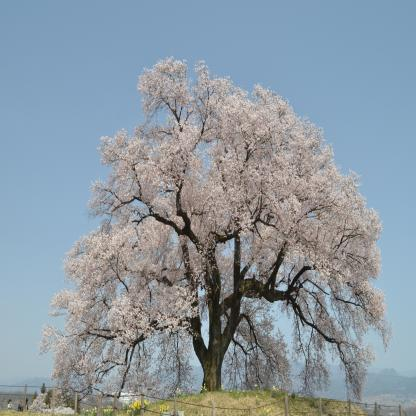EdohiganSakura: (36, 55, 395, 405)
